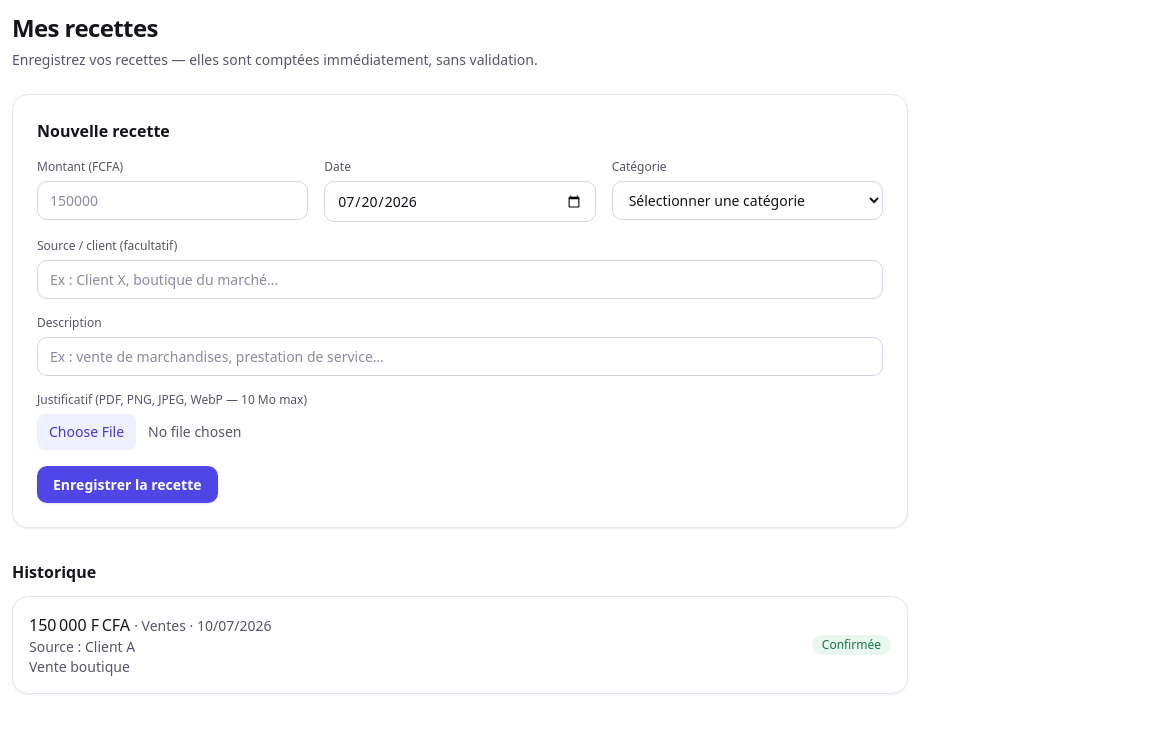
Scenario: MyRevenuesPage › enregistre une recette avec source et affiche la confirmation
This screenshot has width=1164, height=732.
In the number field labelled "Montant (FCFA)": (173, 200) [37,181,308,220], type "90000"
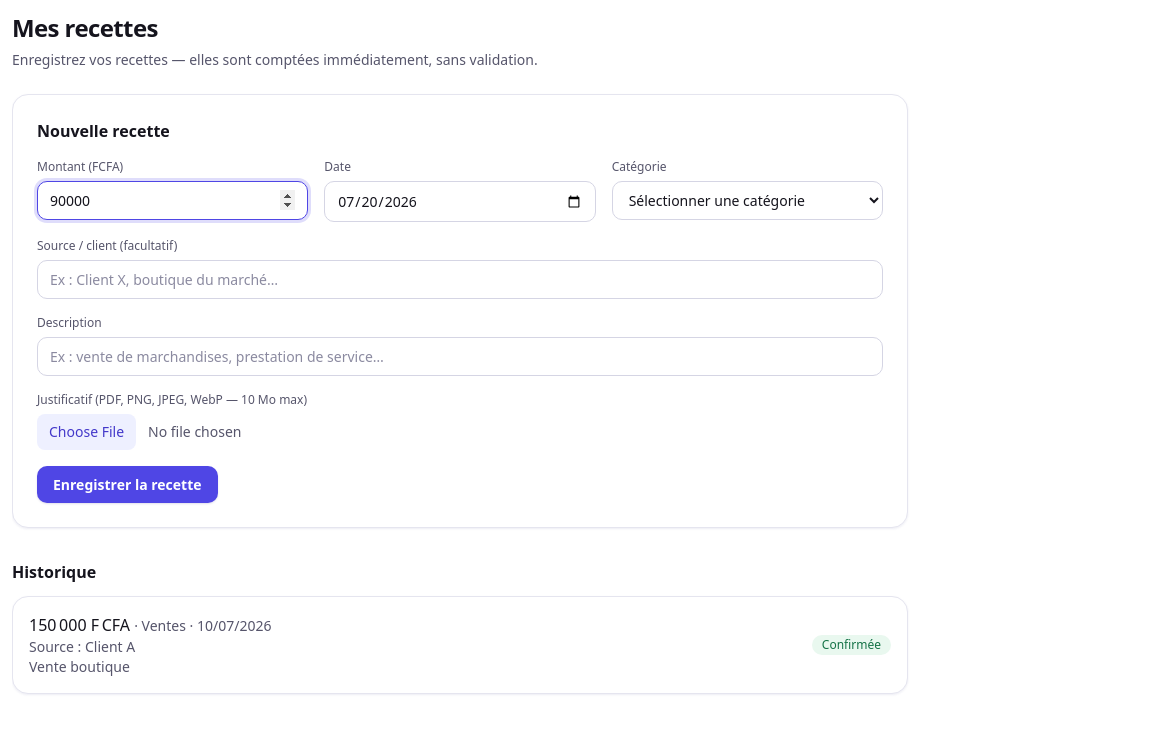
Select "Ventes" in the dropdown labelled "Catégorie": (747, 200) [612,181,883,220]
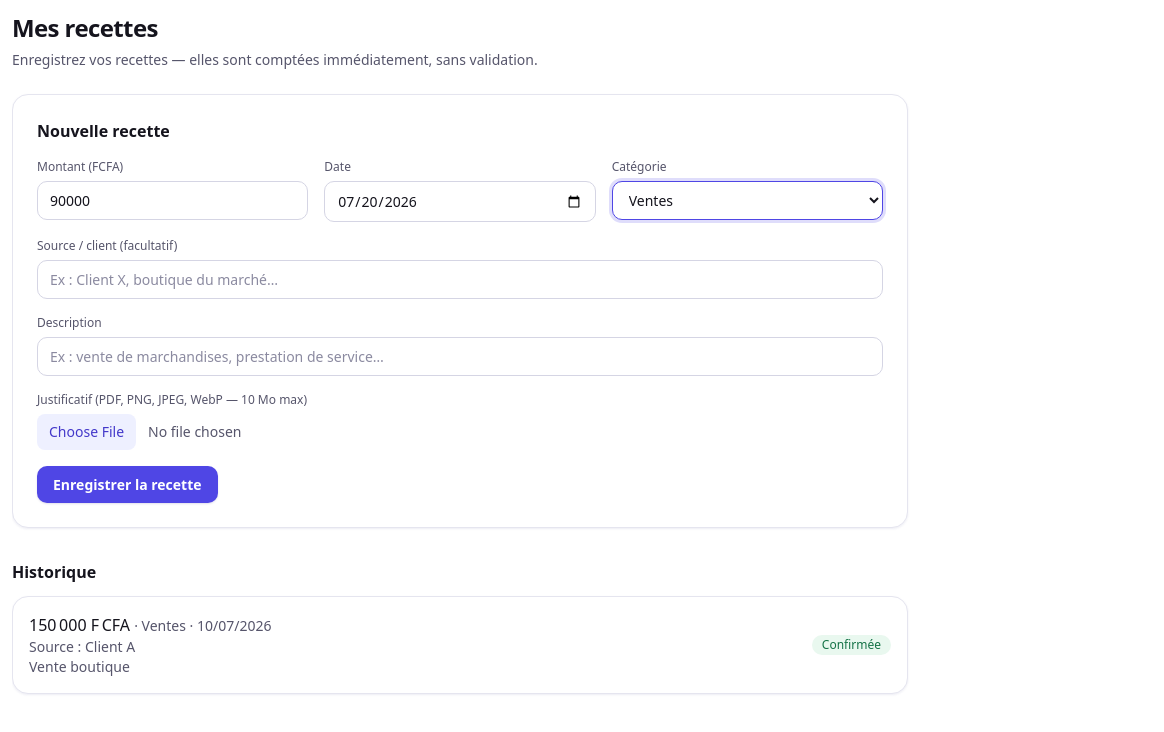
In the field labelled "Source / client (facultatif)": (460, 280) [37,260,883,299], type "Client B"
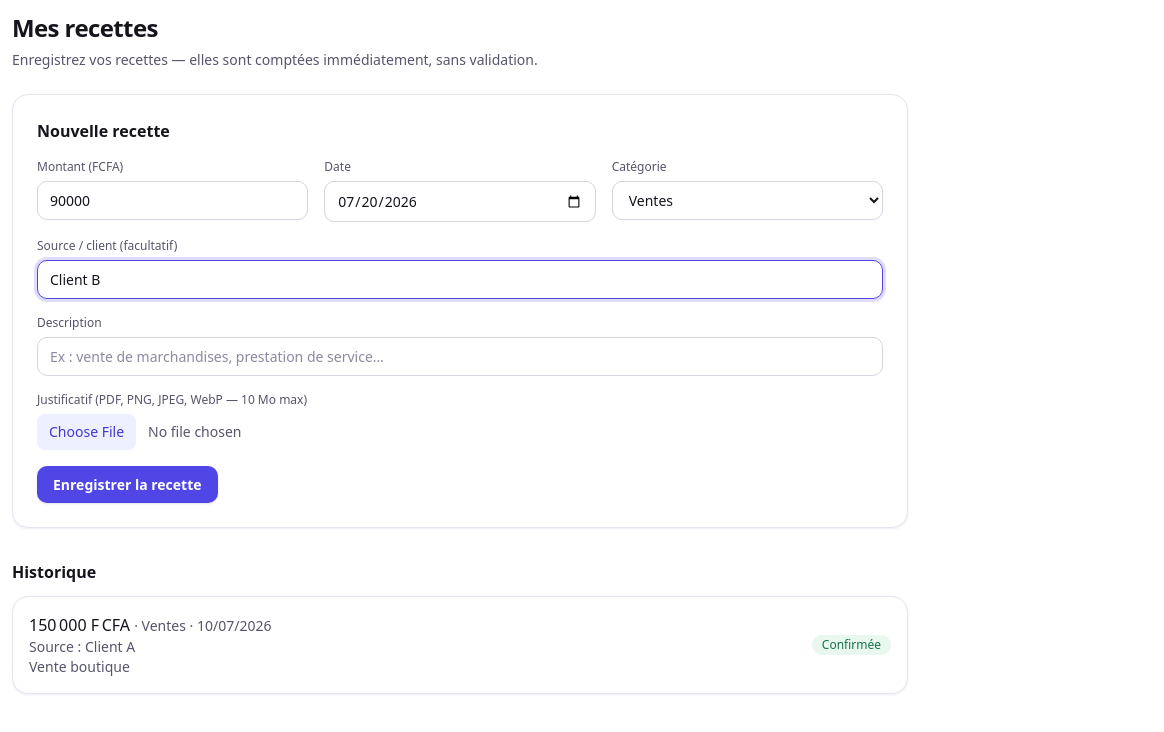
Click the button "Enregistrer la recette": click(127, 484) [37,466,218,503]
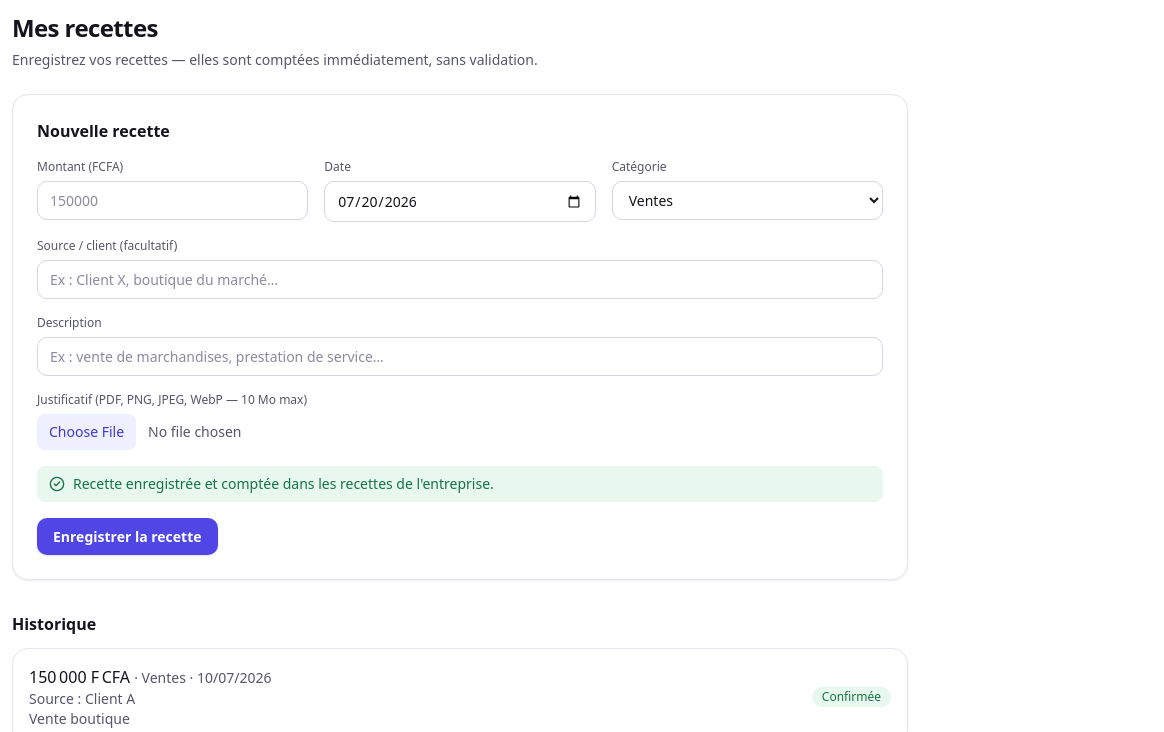
Now the text "comptée dans les recettes de l'entreprise" is shown, box [73,474,494,493]
